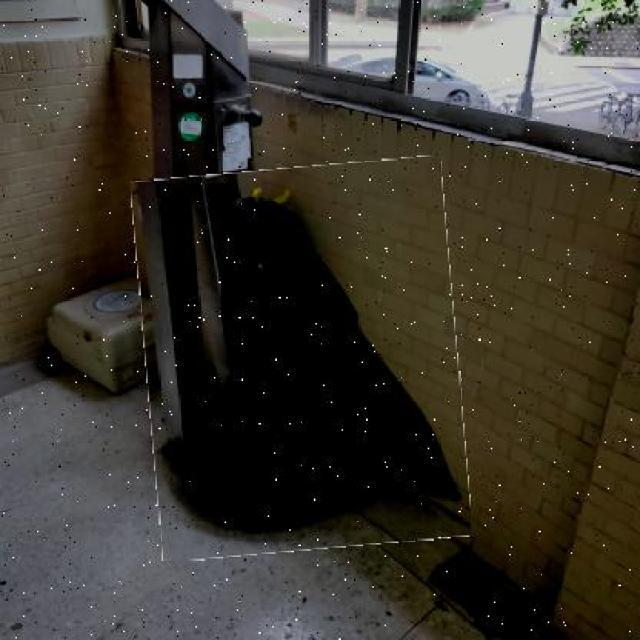waste: (140, 162, 466, 556)
